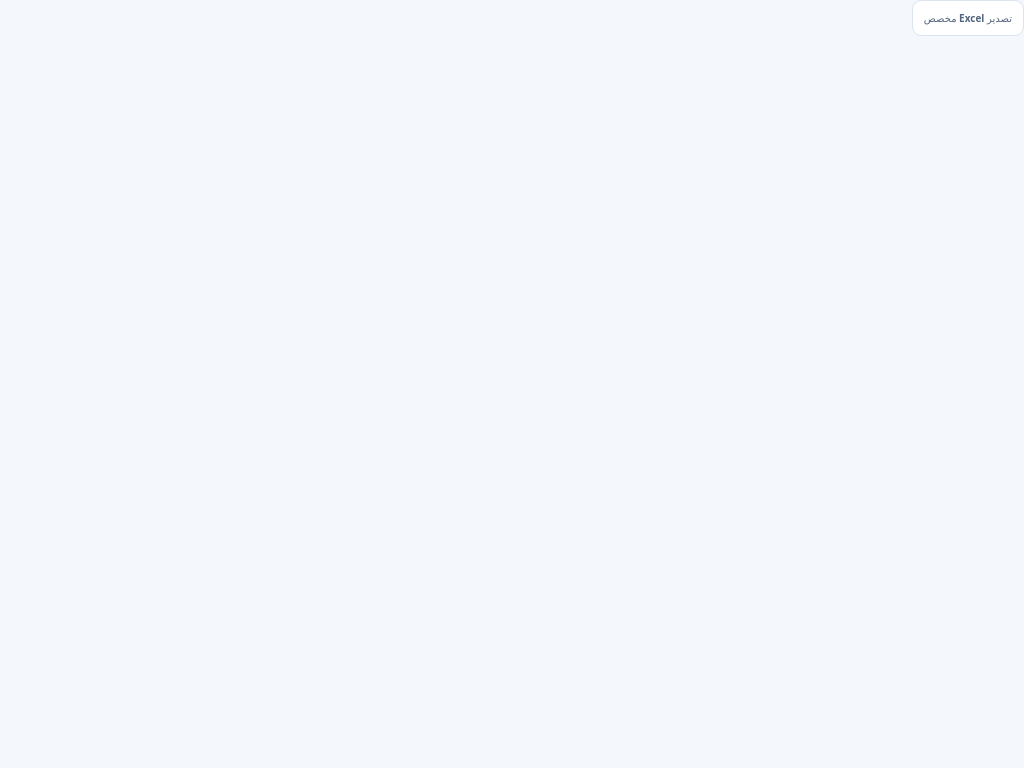
CustomExcelExportButton › shows a permission error when the fields endpoint rejects access
Click the button "تصدير Excel مخصص" at (968,18), box [912,0,1023,36]
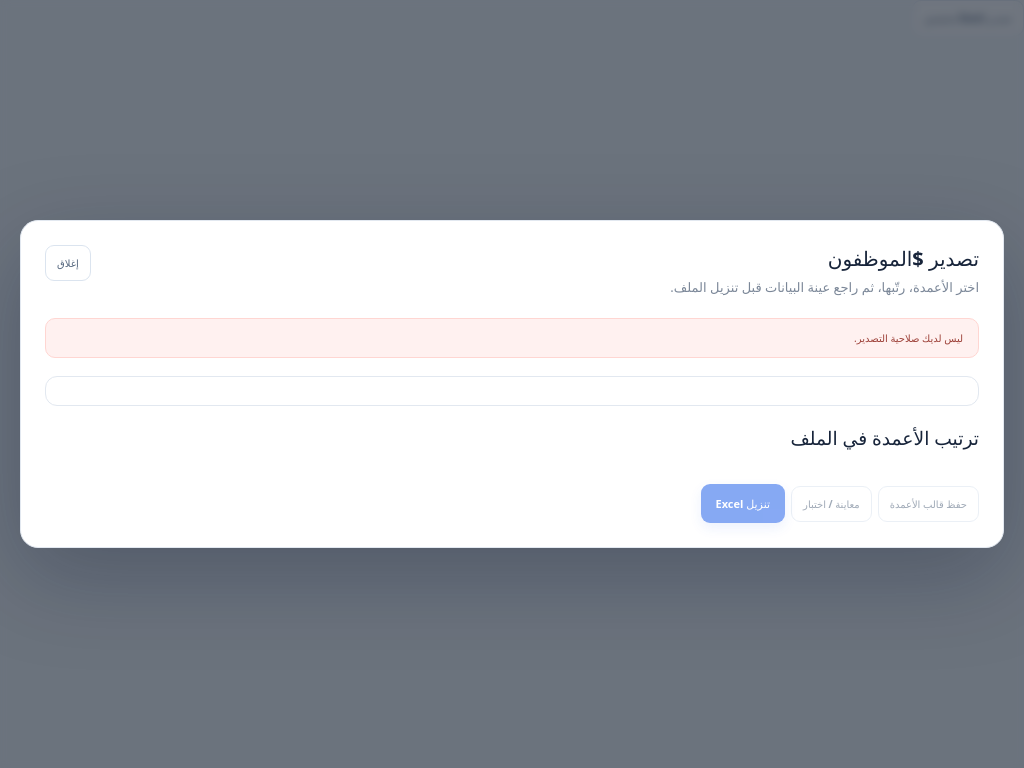
Check: the message reads "ليس لديك صلاحية التصدير.", box [854,331,963,345]
